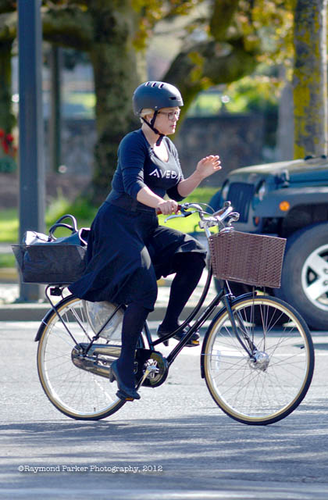bikerider: (18, 75, 318, 429)
